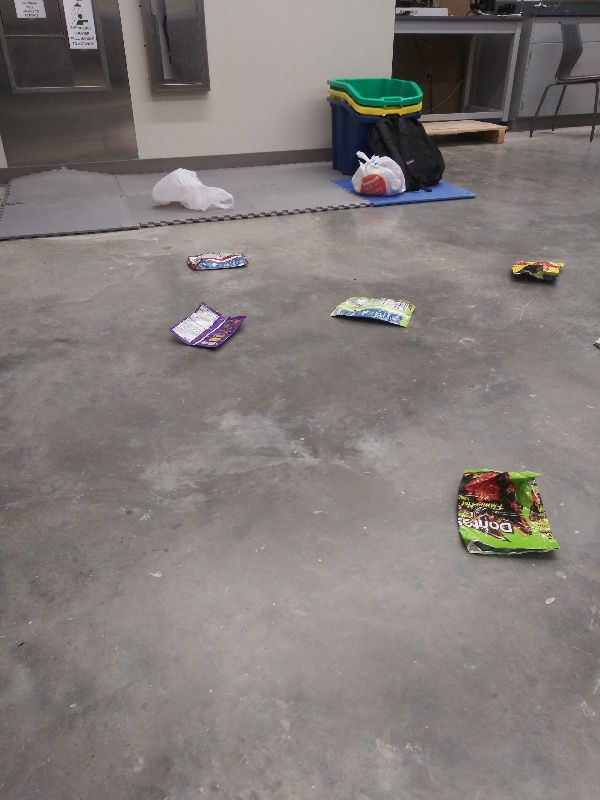bag: (449, 459, 568, 566), (164, 298, 253, 361), (325, 291, 420, 330), (185, 244, 251, 278), (505, 254, 572, 285)
